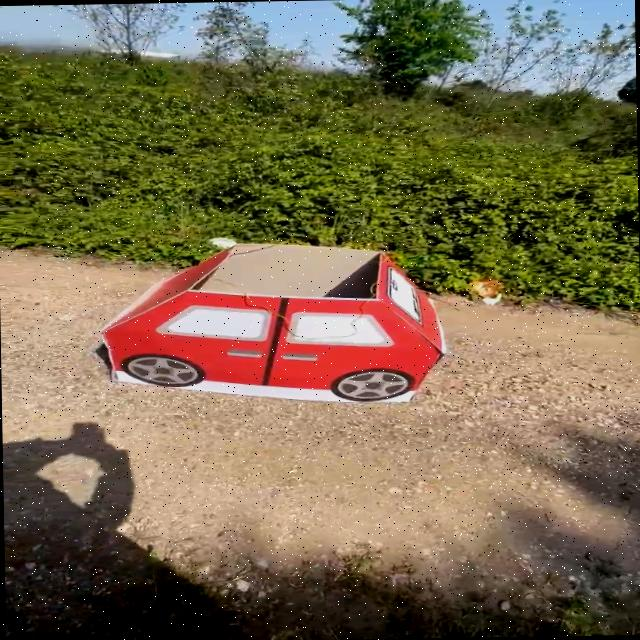red_car: (77, 232, 462, 421)
